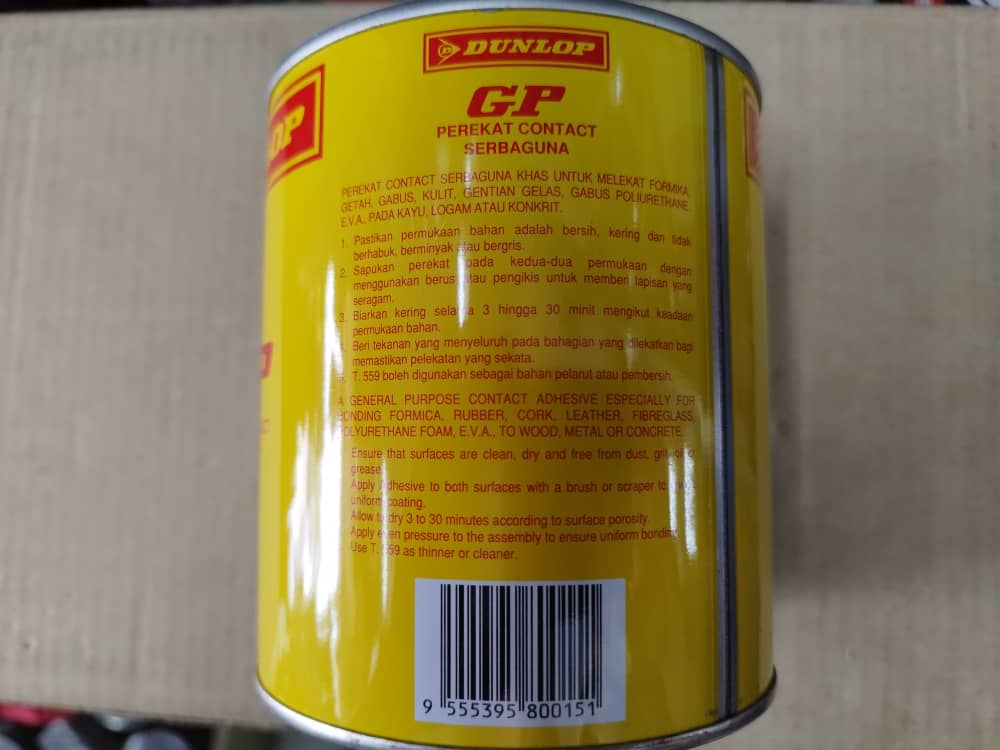sku_glue: (244, 8, 793, 747)
